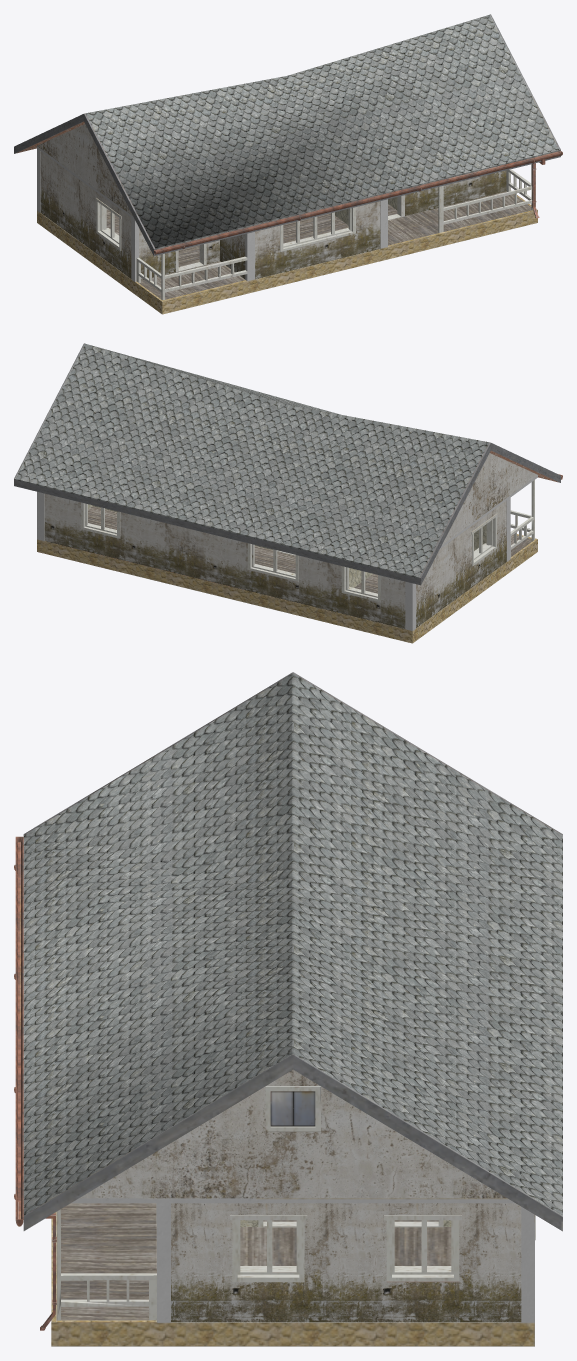
3 views of the same model, one above another, from view 1: azimuth 30°, elevation 25°; view 2: azimuth 150°, elevation 25°; view 3: azimuth 270°, elevation 25° (orthographic). The views are drawn at different scales.
Parts seen in each view (by area): view 1: House; view 2: House; view 3: House.
Part boxes in pixels (x1,y1,x2,y2): House: [14, 14, 562, 314]; House: [14, 343, 562, 643]; House: [14, 672, 562, 1346].
Bounding box in the file's own units: 20.63 × 7.68 × 12.5.
